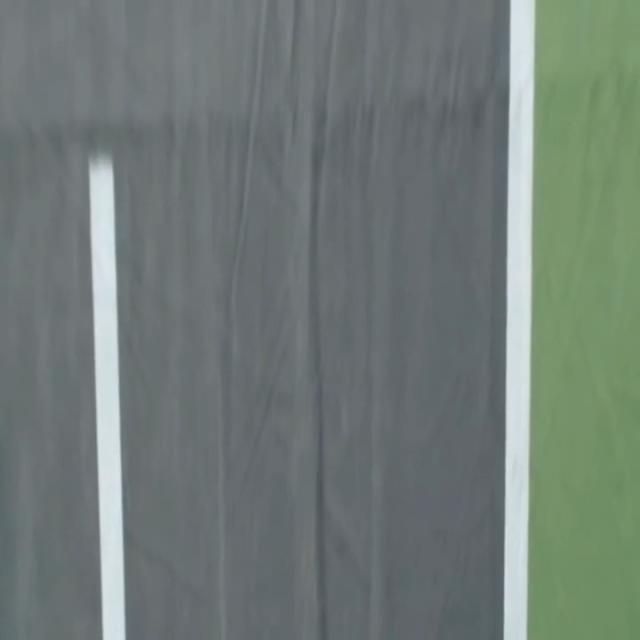center: (90, 155, 125, 639)
right: (504, 0, 534, 639)
